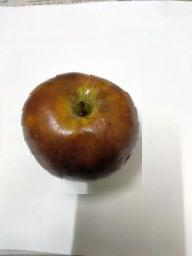Apple Semifresh: (4, 59, 142, 197)
